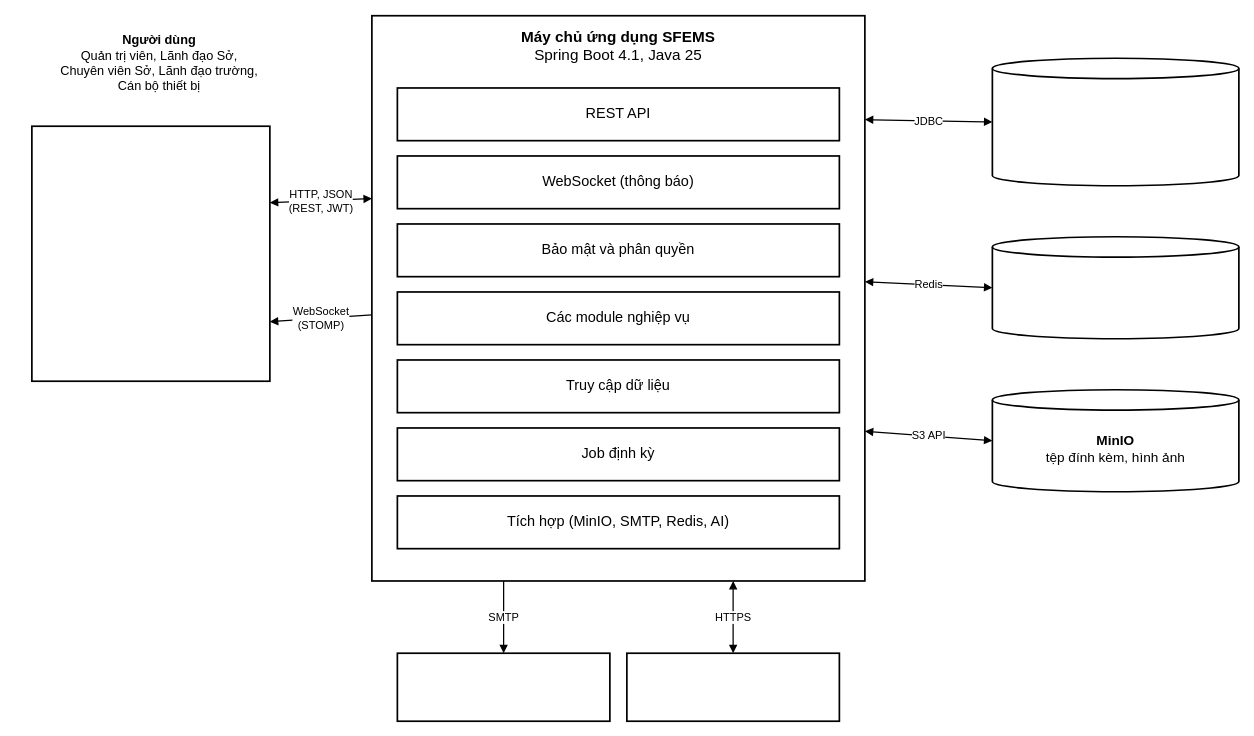
Some shapes in this 1254 by 736 pixel diagram are drawn without their labels. The centre of each missing label's shape, as x and y in pixels:
Dịch vụ AI (Anthropic Claude API): point (733, 687)
Máy chủ email (SMTP): point (503, 687)
PostgreSQL dữ liệu nghiệp vụ, RLS, LISTEN/NOTIFY: point (1115, 121)
Redis bộ đệm dùng chung, sổ phiên đăng nhập: point (1115, 287)
Trình duyệt web Giao diện SFEMS React 19, Refine 5 Tailwind CSS, shadcn/ui: point (150, 253)
